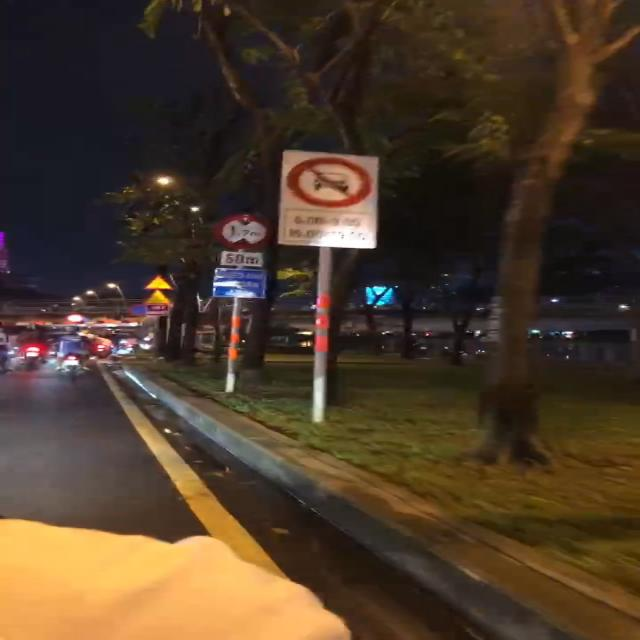Bien bao cam xe oto: (282, 146, 376, 213)
